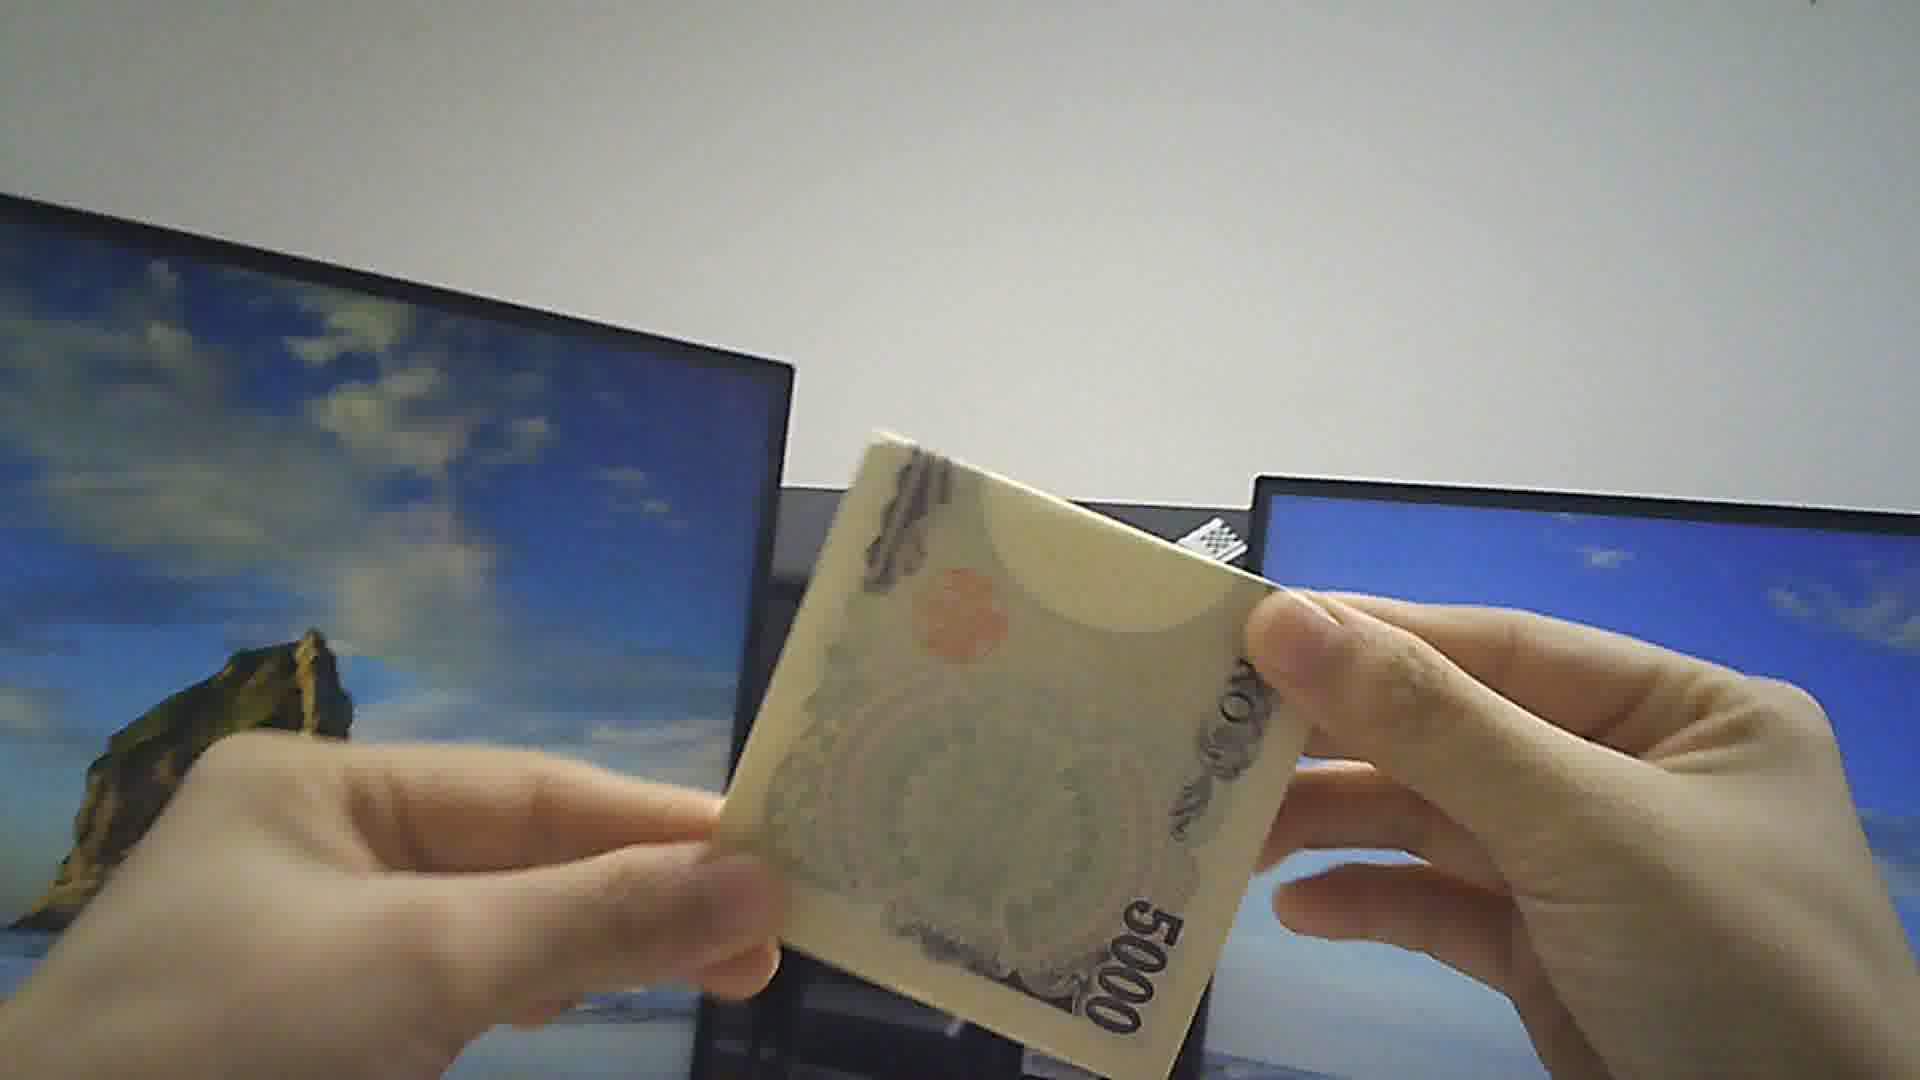5,000 Yen: (702, 429, 1350, 1079)
